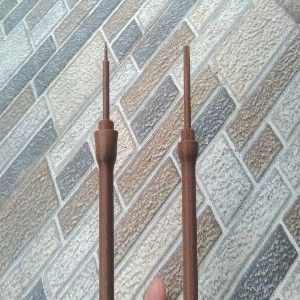obeng: (176, 44, 200, 300)
solder: (93, 39, 119, 300)
